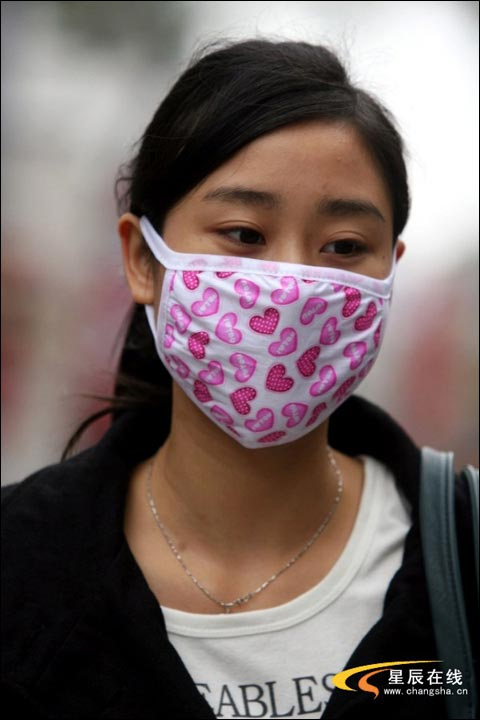mask: (134, 213, 480, 466)
